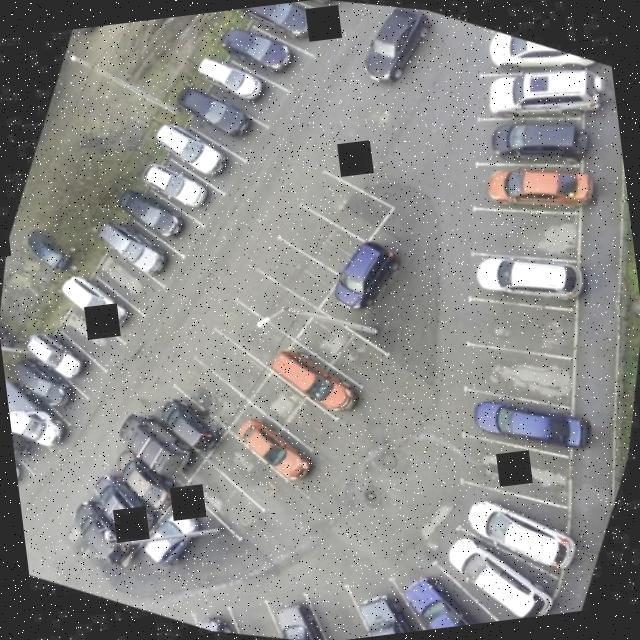space-empty: (436, 301, 605, 443), (442, 160, 600, 304), (441, 262, 597, 394), (442, 409, 591, 527), (256, 189, 380, 295), (190, 418, 304, 523), (236, 360, 351, 462), (216, 254, 332, 350), (235, 226, 353, 320), (290, 160, 398, 258), (170, 319, 282, 411), (288, 300, 399, 392), (197, 288, 306, 378), (286, 567, 404, 640), (163, 352, 259, 438), (89, 236, 172, 321), (49, 292, 132, 376), (220, 578, 313, 640)
space-occupied: (450, 20, 620, 170), (437, 205, 606, 351), (446, 112, 614, 258), (435, 352, 606, 494), (428, 448, 592, 591), (453, 70, 611, 214), (400, 511, 578, 631), (362, 532, 528, 636), (321, 551, 466, 640), (470, 14, 604, 109), (258, 333, 380, 435), (86, 433, 198, 536), (217, 400, 326, 500), (174, 451, 282, 550), (49, 488, 152, 590), (130, 372, 236, 467), (114, 401, 214, 495), (68, 464, 170, 556), (252, 563, 360, 640), (165, 114, 249, 202), (9, 353, 100, 434), (108, 210, 188, 296), (34, 323, 113, 408), (143, 146, 224, 228), (124, 184, 207, 264), (69, 268, 150, 348), (229, 20, 309, 99), (184, 86, 264, 164), (6, 386, 78, 464), (250, 0, 333, 66), (205, 56, 278, 127), (181, 589, 266, 640), (9, 411, 56, 480), (12, 428, 44, 500), (270, 0, 347, 26)
